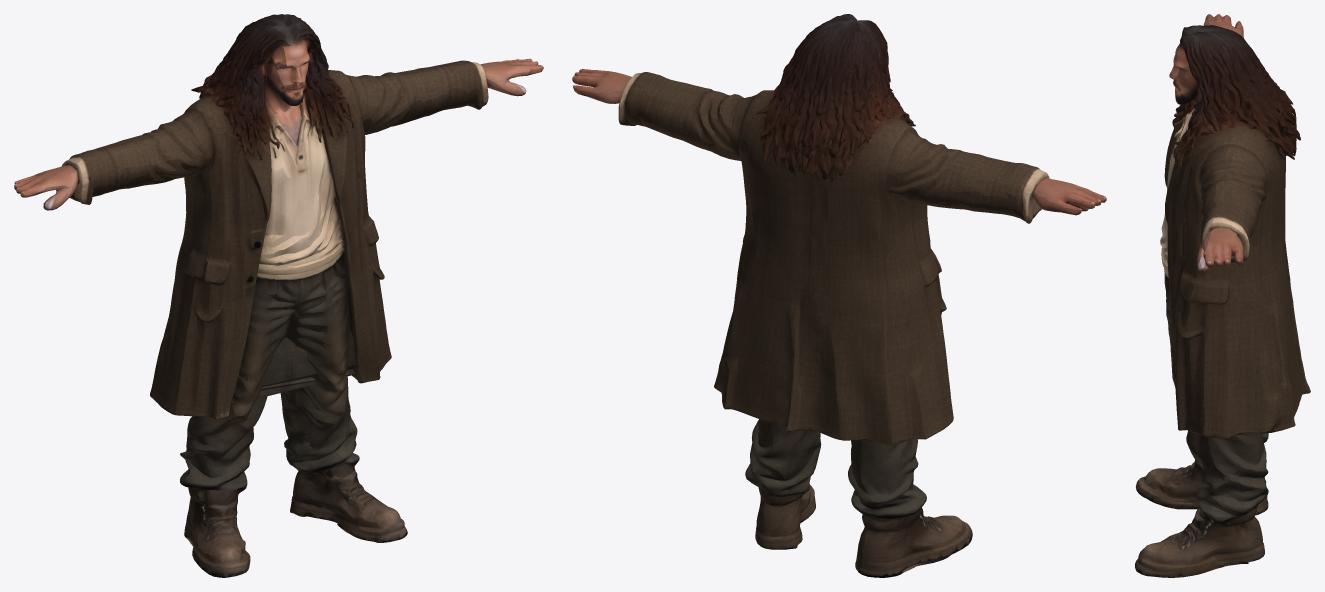
3 renders of one model, left to right at view 1: azimuth 30°, elevation 25°; view 2: azimuth 150°, elevation 25°; view 3: azimuth 270°, elevation 25°, orthographic. The views are drawn at different scales.
Parts seen in each view (by area): view 1: world; view 2: world; view 3: world.
Boxes of the visible parts, left/top/right/bottom form: world: left=14, top=14, right=543, bottom=577; world: left=572, top=14, right=1106, bottom=577; world: left=1135, top=14, right=1310, bottom=577.
Bounding box in the file's own units: 1 × 0.9411 × 0.2988.
Materials: 1 (1 with a texture image).
